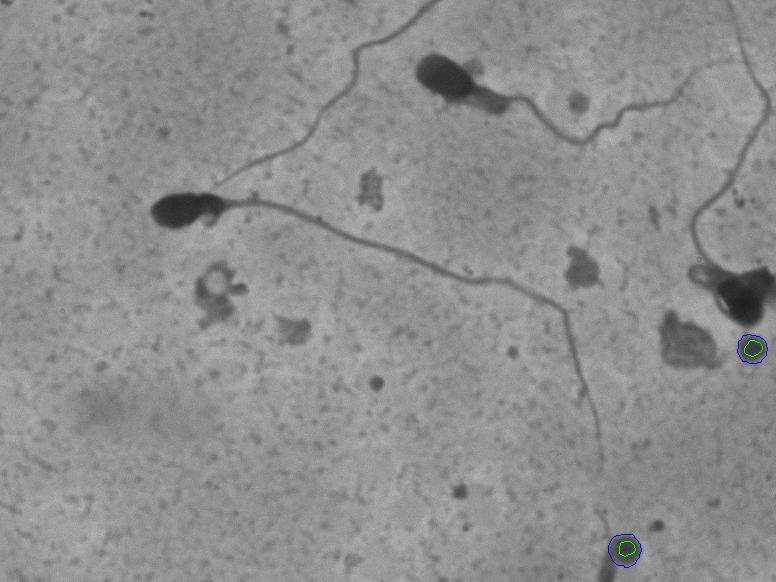Abnormal: (142, 178, 627, 486), (391, 40, 732, 173)
